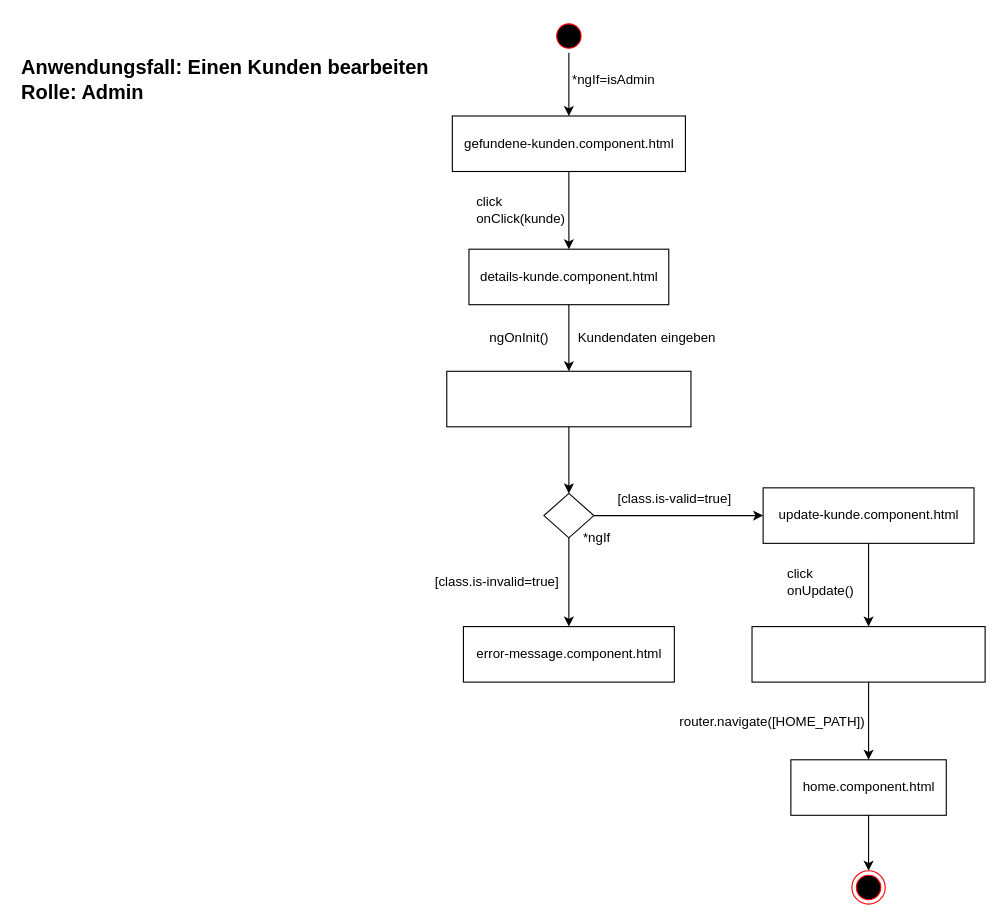
This 1005x924 diagram has some shape labels left out. Each missing label, with the centre of its shape:
details-stammdaten.component.html: point 568,398
update-stammdaten.component.html: point 868,653
